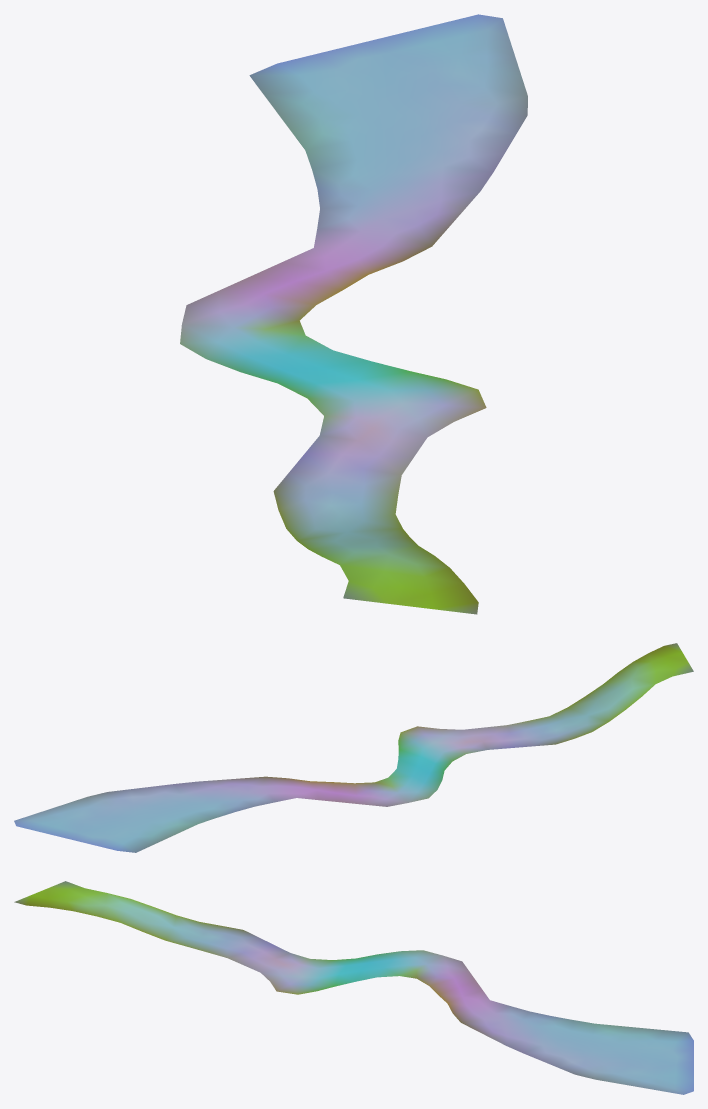
The model's file is Castle_River.FBX.
3 views of the same model, one above another, from view 1: azimuth 30°, elevation 25°; view 2: azimuth 150°, elevation 25°; view 3: azimuth 270°, elevation 25° (orthographic). The views are drawn at different scales.
Visible parts, largest first — view 1: Castle_River; view 2: Castle_River; view 3: Castle_River.
Part boxes in pixels (x1,y1,x2,y2): Castle_River: [180, 14, 527, 614]; Castle_River: [14, 643, 693, 852]; Castle_River: [14, 881, 693, 1094].
Bounding box in the file's own units: 100 × 5.62 × 151.
